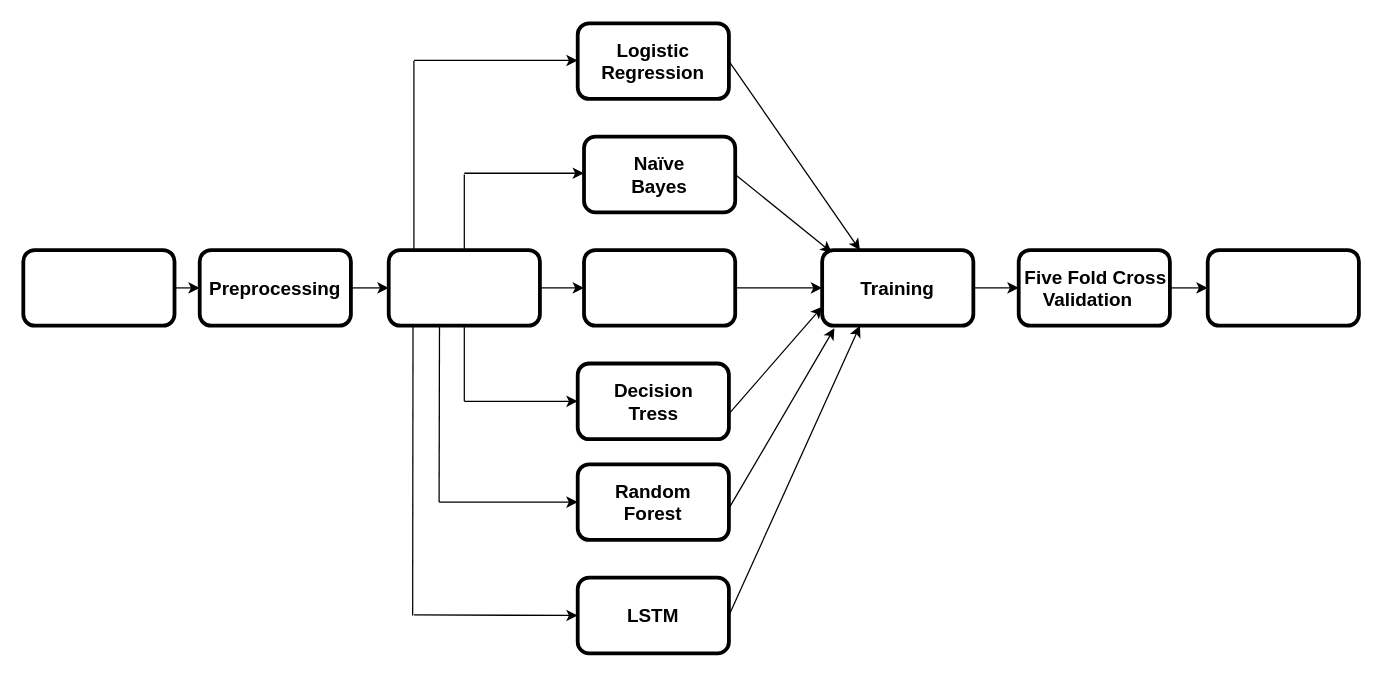
Image size: 1382x677. Some labels were removed from this diagram. Here are the shapes that lost their labels. From the top down, the centre of each, then its label:
the point at 98,287: Dataset
the point at 463,287: Applying ML/DL methods
the point at 658,287: KNN
the point at 1282,287: Testing
